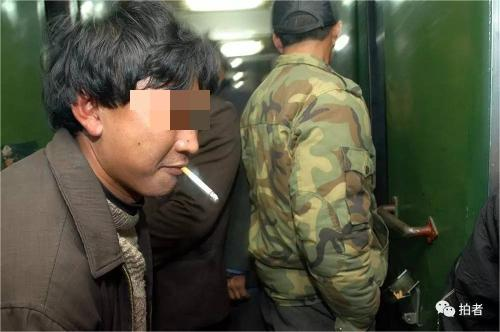smoke: (178, 165, 223, 206)
